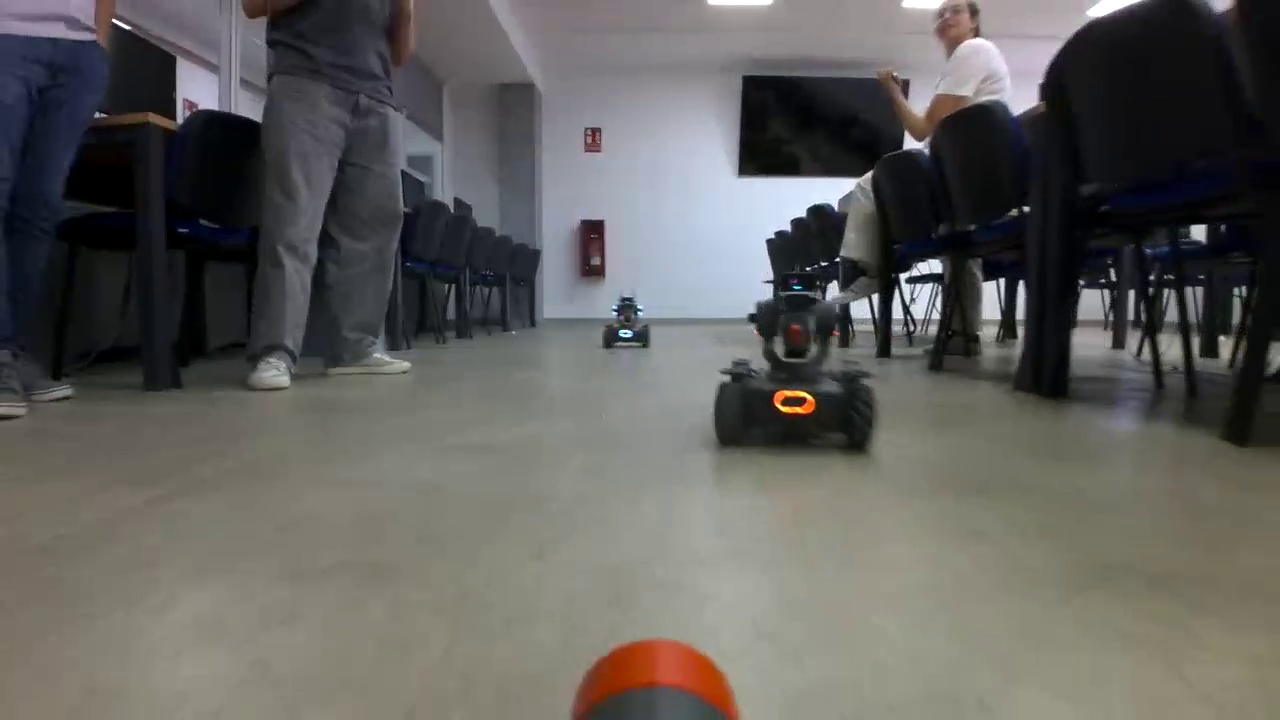robot: (712, 273, 877, 452), (602, 300, 650, 348)
